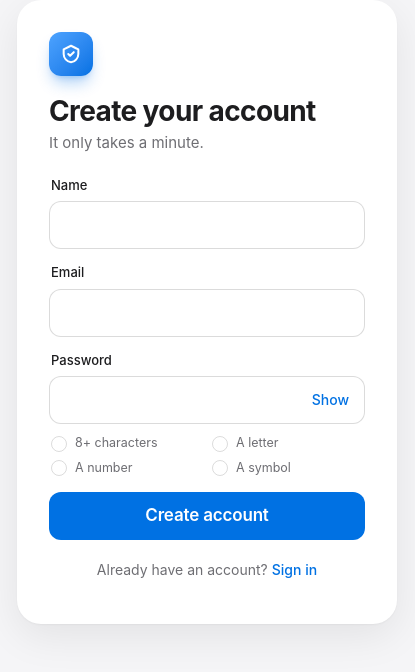
Test case: SignUpPage: server errors › 429 shows a calm message in an alert
In the field labelled "Name": coordinates (207, 225) [49,201,365,249], type "  Ada  "
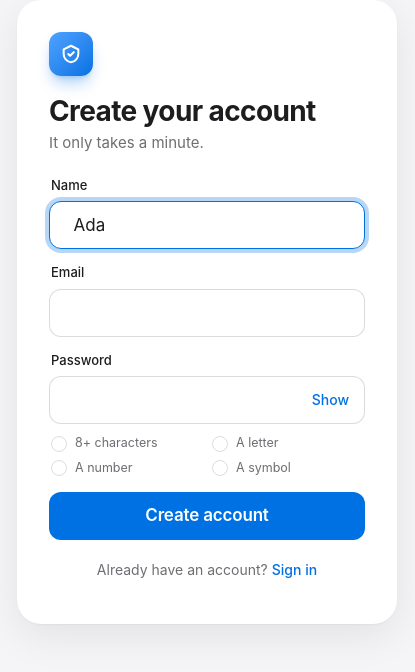
In the field labelled "Email": coordinates (207, 313) [49,289,365,337], type "Ada@Example.com"
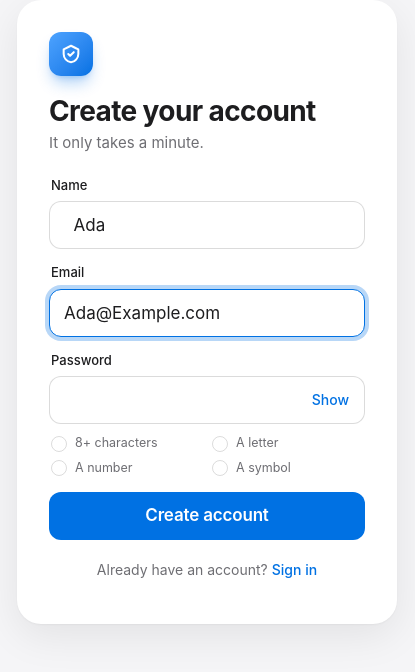
In the password field labelled "Password": coordinates (207, 400) [49,376,365,424], type "Abcdef1!"
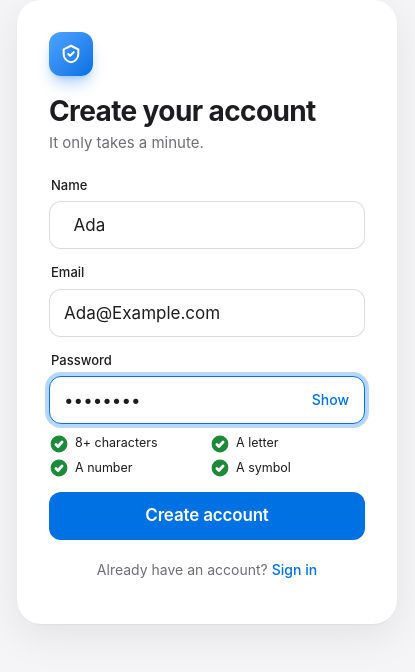
Click the button "Create account": coordinates (207, 516) [49,492,365,540]
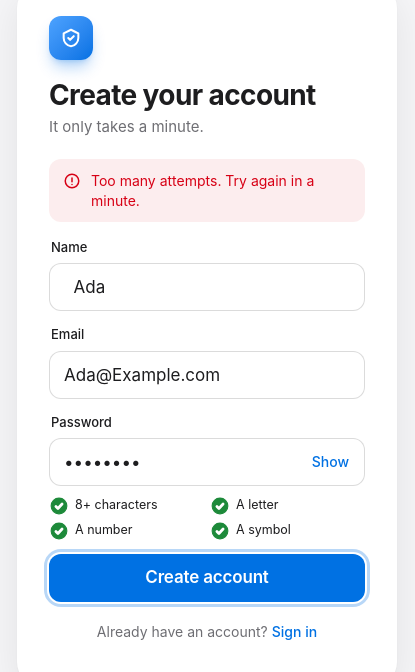
expect the message reads "Too many attempts. Try again in a minute.": met, box [91,172,314,209]
